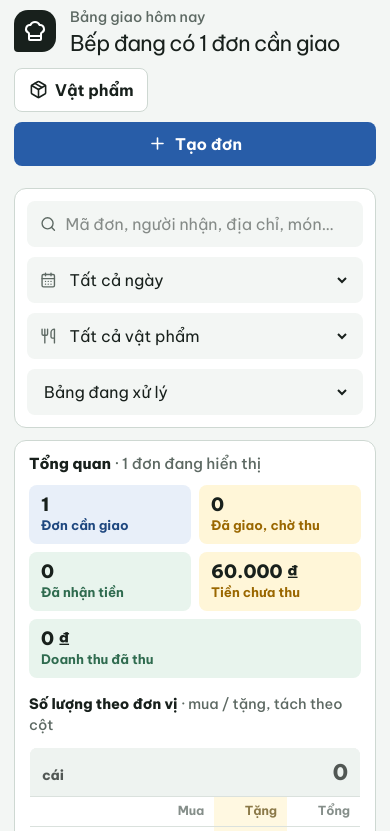
it: OrderBoard › filters orders from one search field and explains an empty result
Type "không tồn tại" into the search field named "Tìm đơn".
click(208, 224); type("không tồn tại")  # box [66,202,350,246]
(page scrolled)
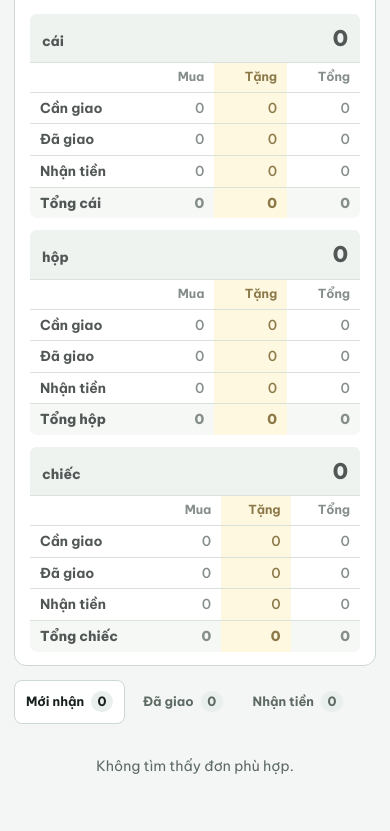
Check: the text "Không tìm thấy đơn phù hợp." is shown, box [96,757,294,775]
